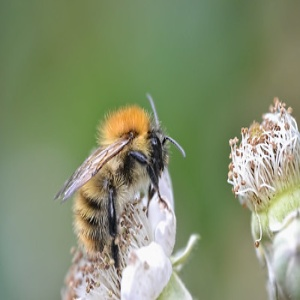bee: (57, 96, 188, 262)
